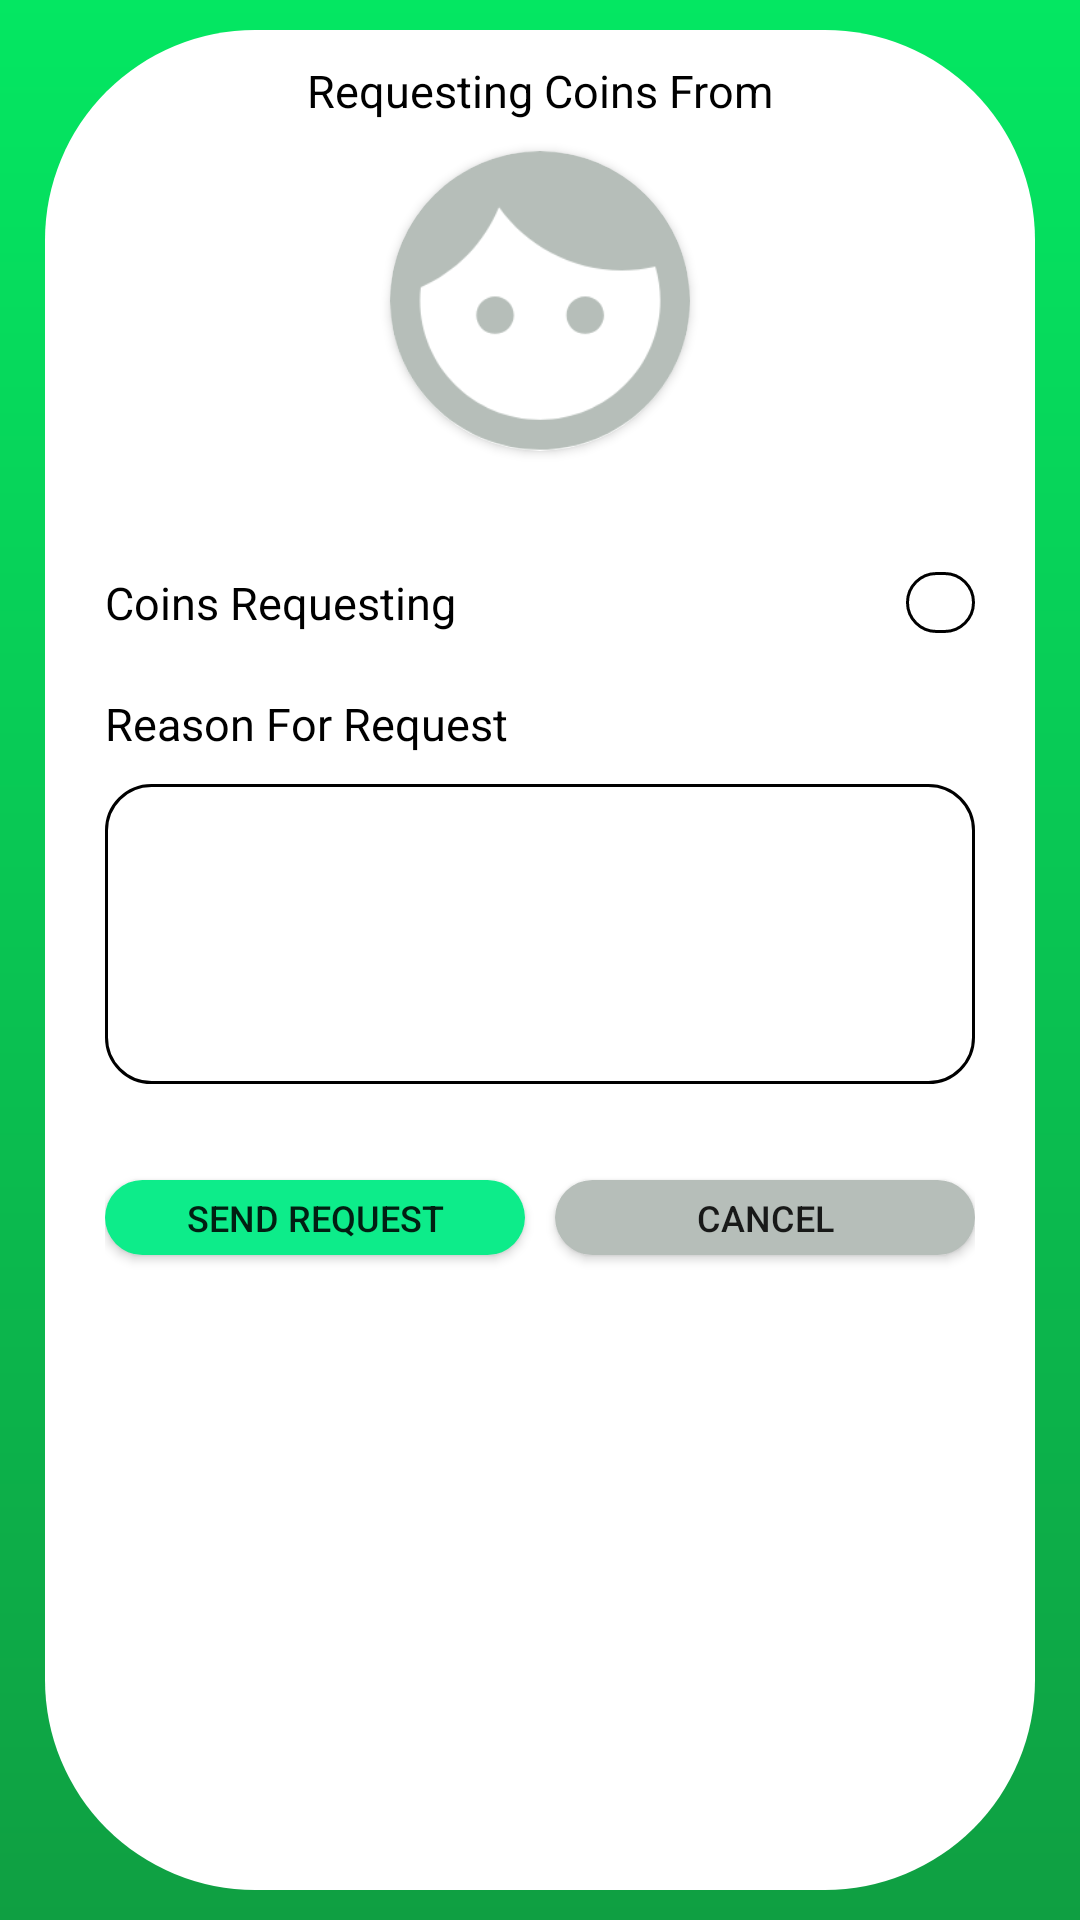

Where icons sit on this 1080px×1920px app screen, as (x1, y1, x2, y2):
User profile picture: (390, 151, 690, 451)
